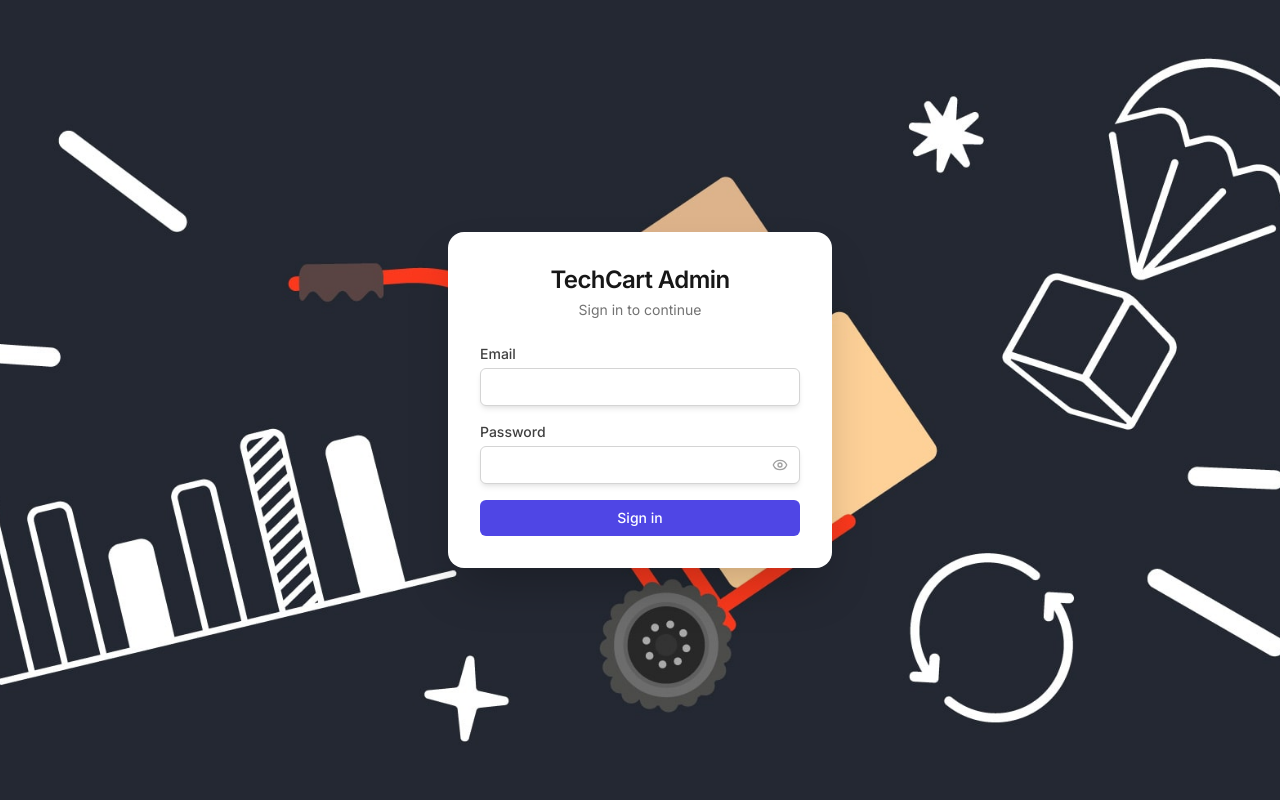
Scenario: SignInContent › shows a distinct message for an incorrect password
This screenshot has width=1280, height=800.
Step 1. Type "admin@example.com" into the field labelled "Email" → (640, 387), box [480,368,800,406]
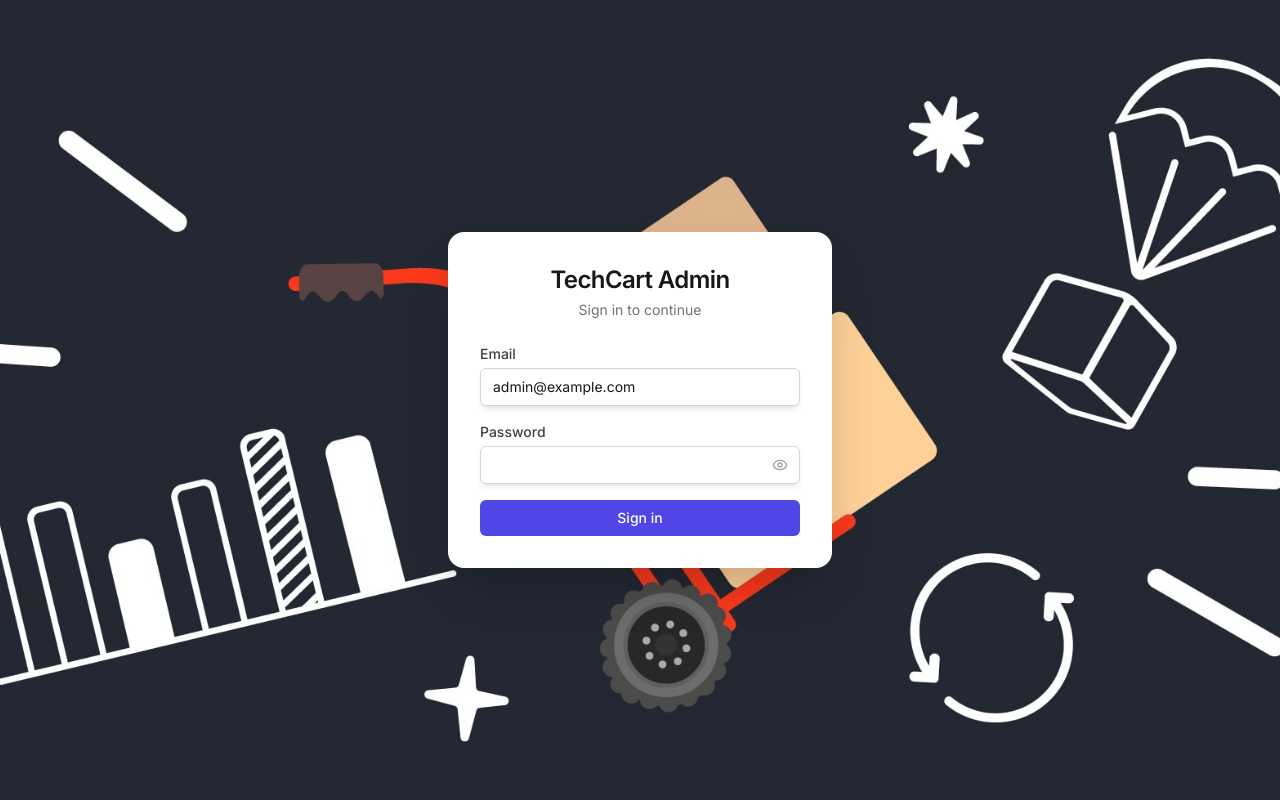
Step 2. Type "correct-password" into the password field labelled "Password" → (640, 465), box [480,446,800,484]
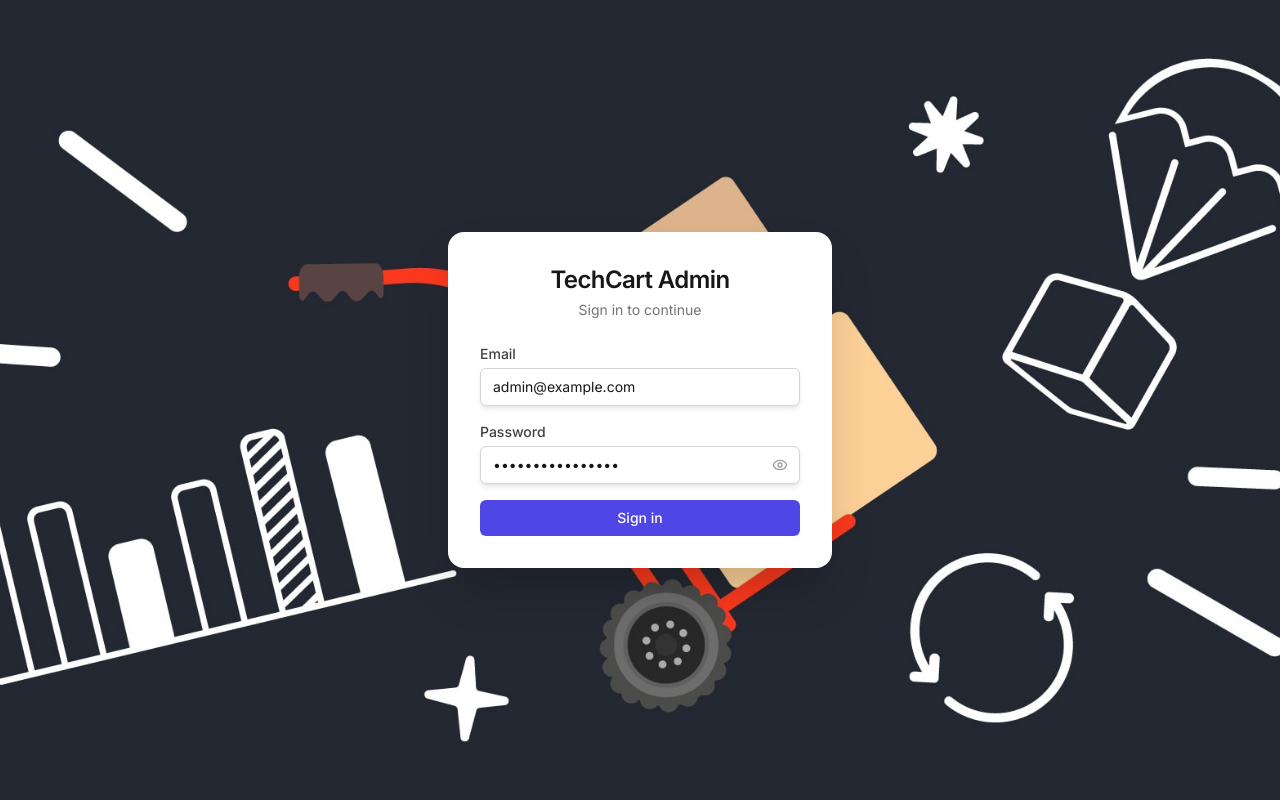
Step 3. Click the button "Sign in" → (640, 518), box [480,500,800,536]
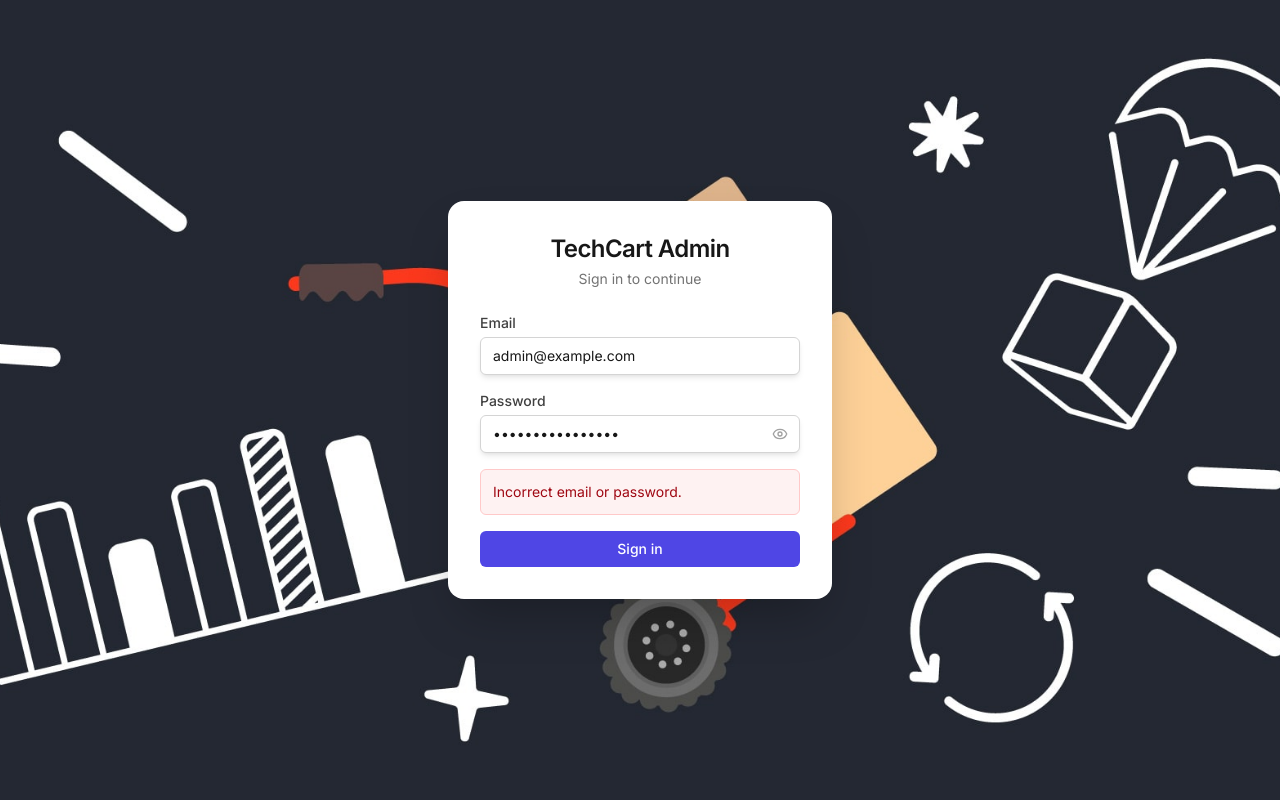
Now the text "Incorrect email or password." is shown, box [480,469,800,515]
